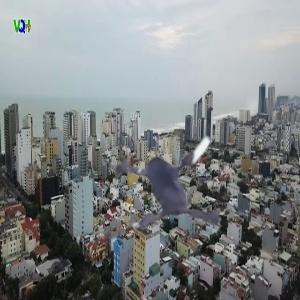drone: (96, 80, 282, 266)
